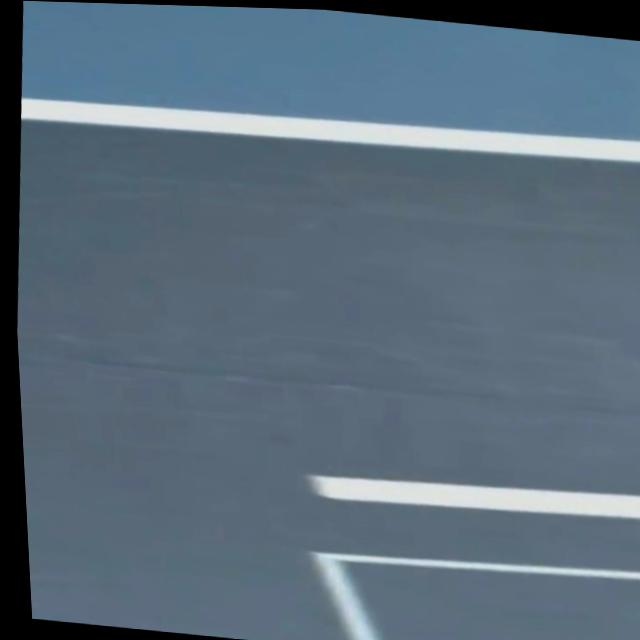center: (306, 474, 640, 518)
left: (19, 97, 640, 161)
